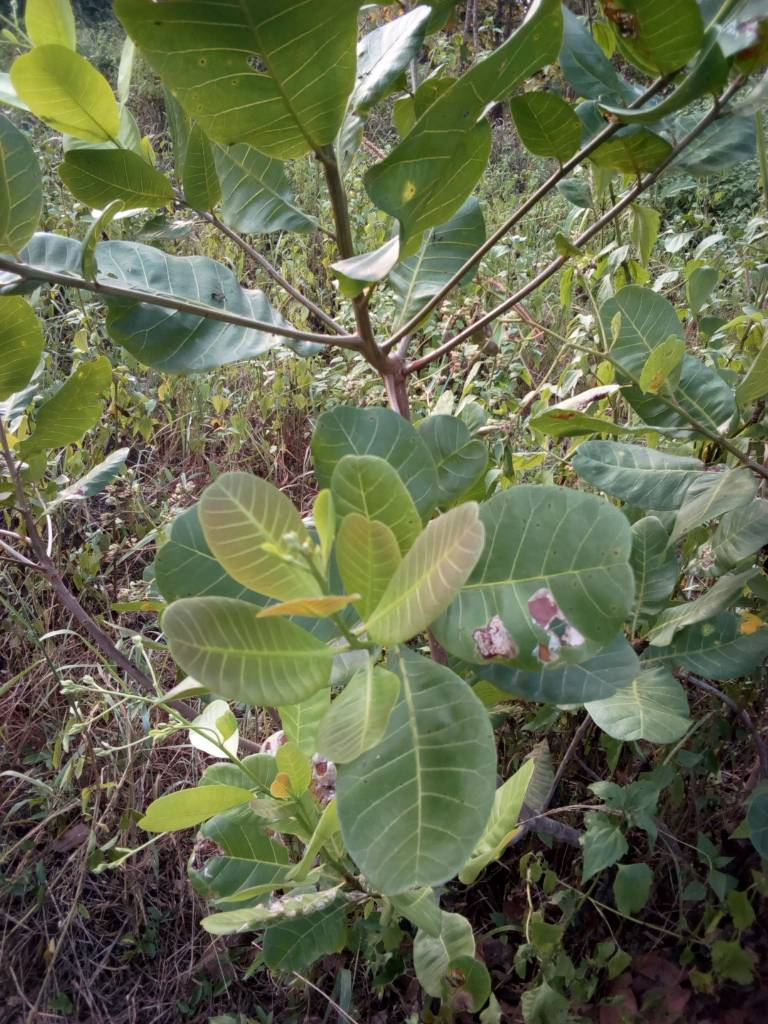Dysdercus wolkerii: (424, 475, 702, 671)
